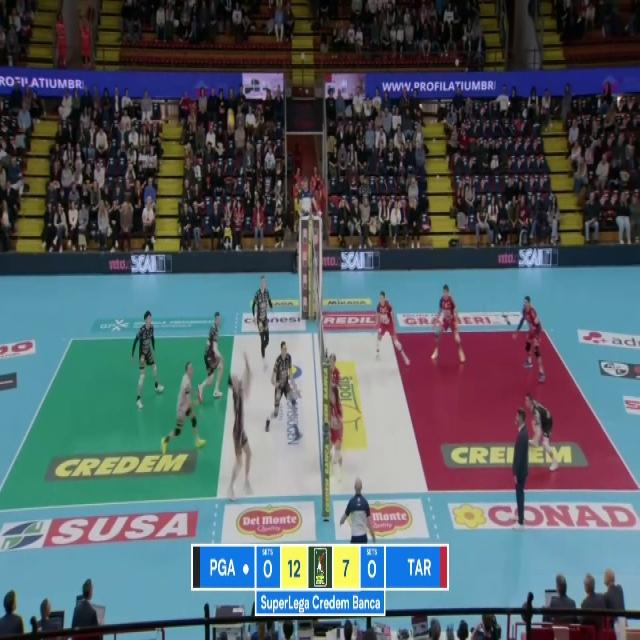volleyball court: (0, 323, 638, 512)
